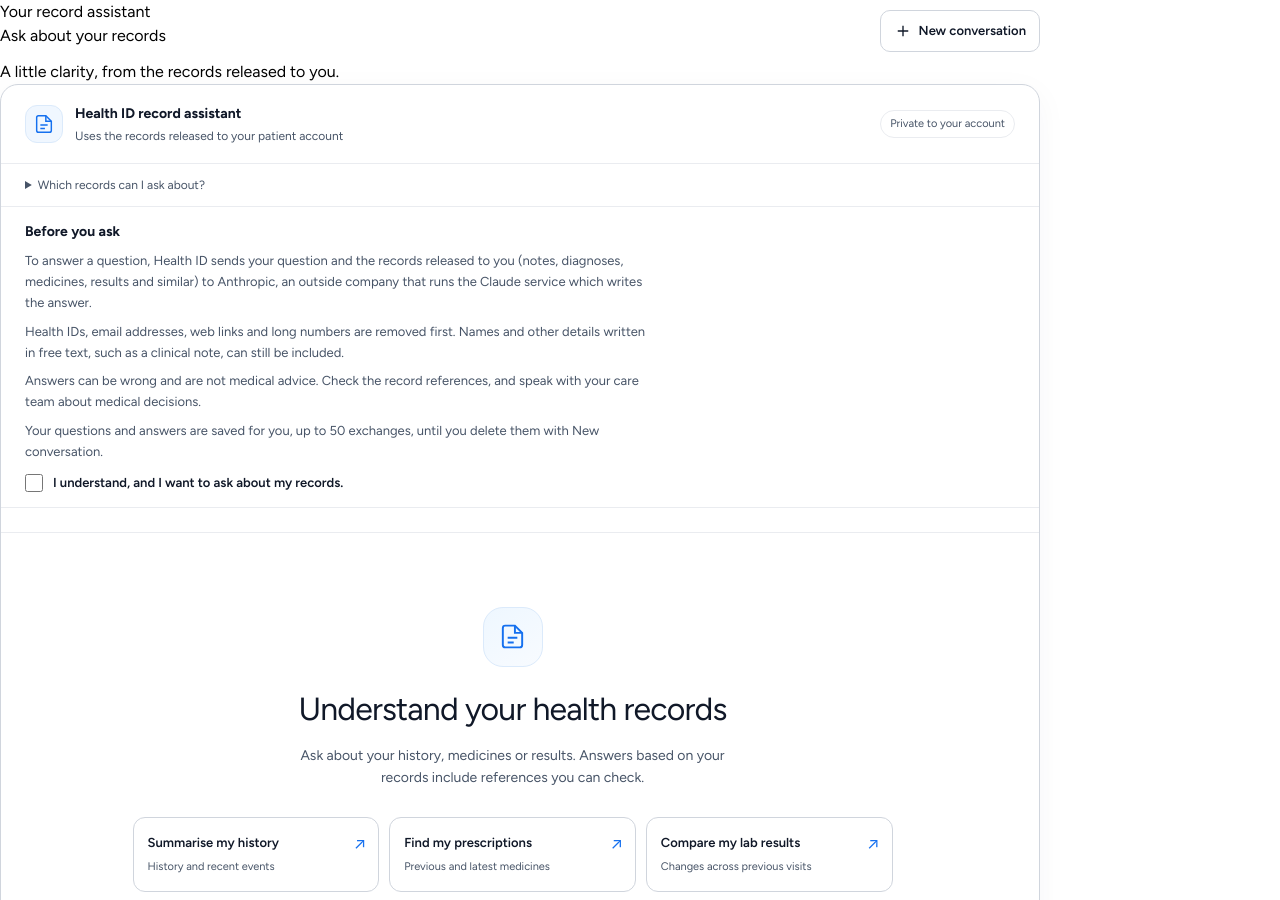
Scenario: shows the fixed declined text and cites nothing
Check: the heading "Before you ask" is shown, box [25,223,120,240]
Step 1. Click the checkbox labelled "I understand, and I want to ask about my records." → (34, 483), box [25,474,43,492]
(page scrolled)
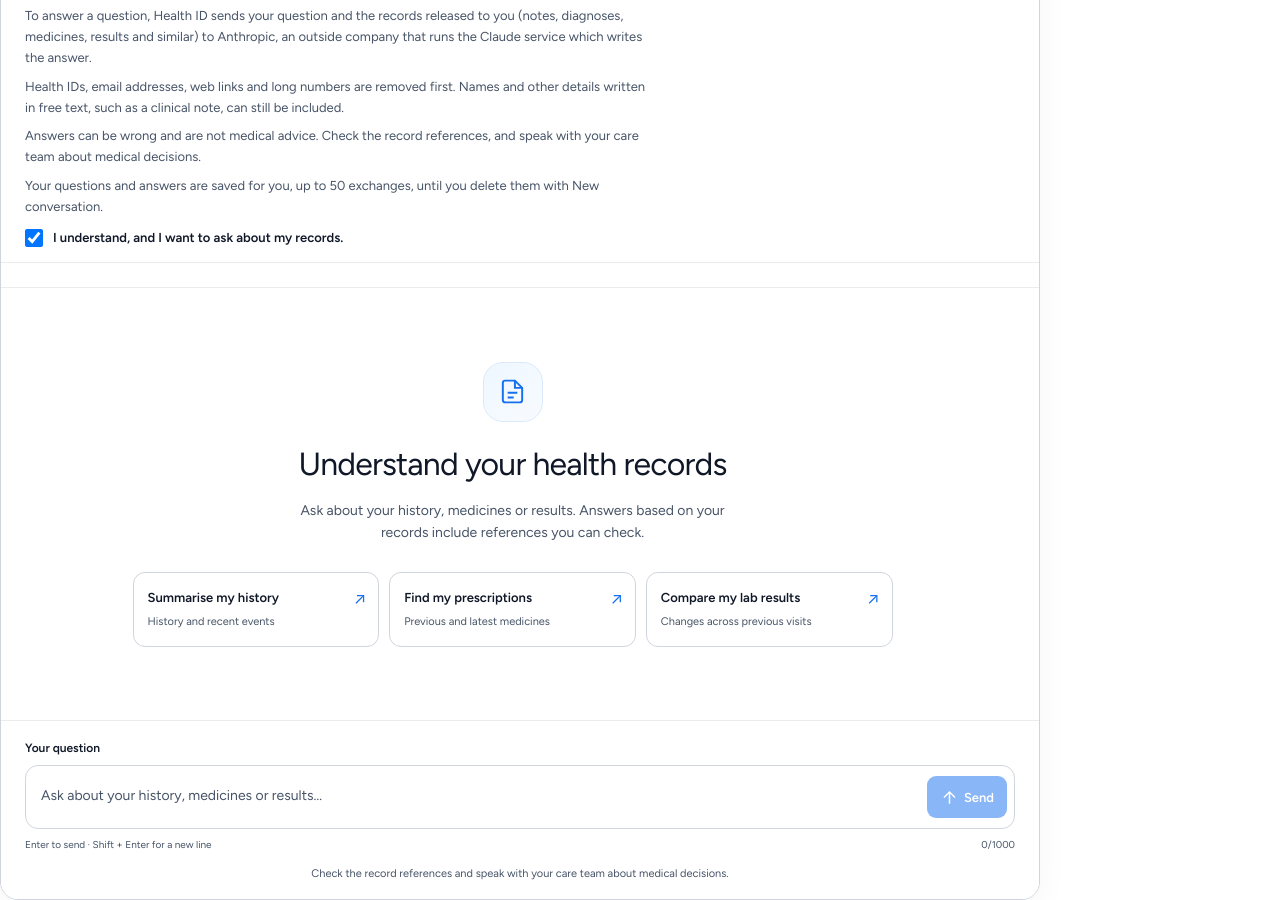
Step 2. Type "Question" into the text box labelled "Your question" → (475, 797), box [33,773,917,821]
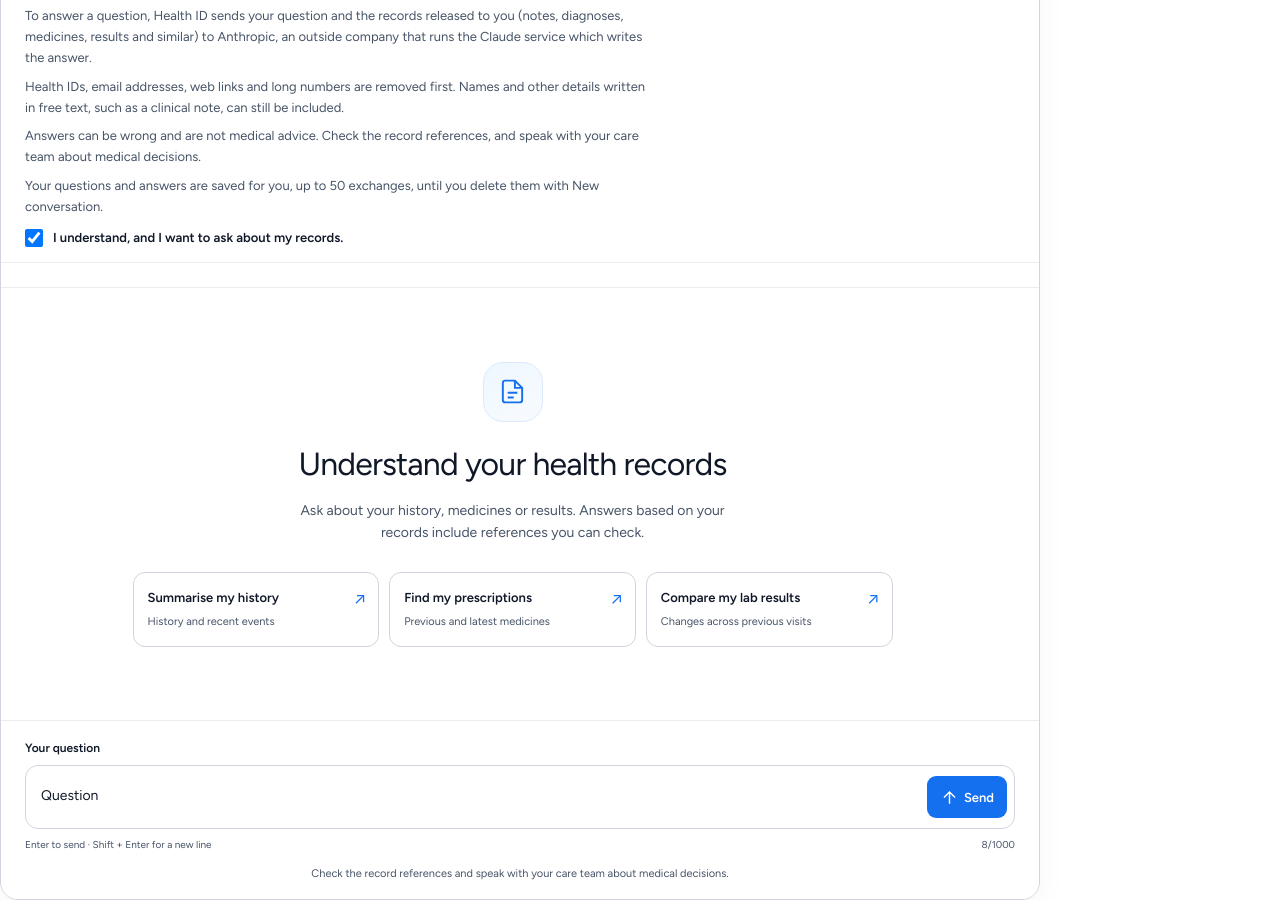
Step 3. Click the button with aria-label "Send question" → (967, 797), box [927,776,1007,818]
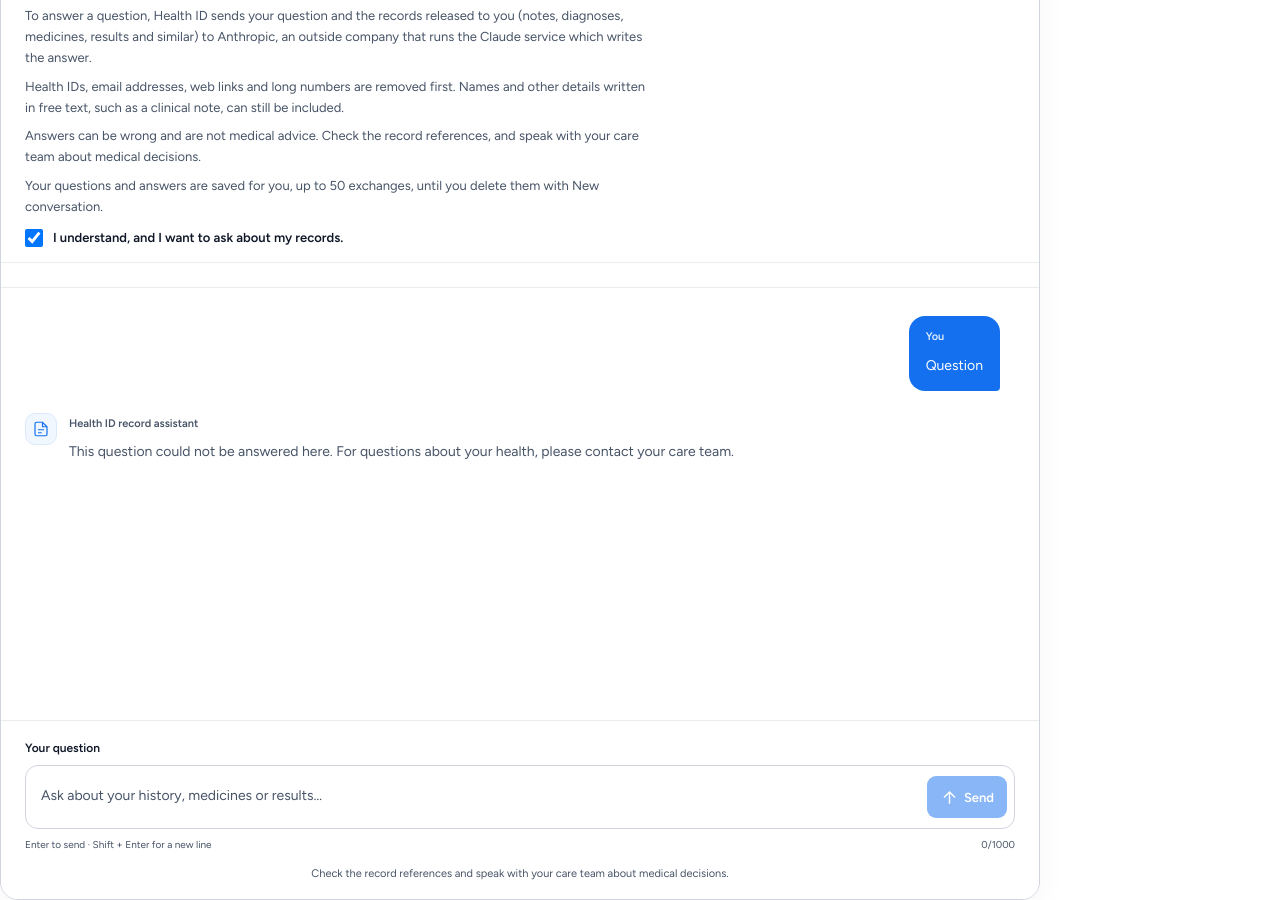
Check: the text "This question could not be answered here. For questions about your health, please contact your care team." is shown, box [69,443,734,460]
